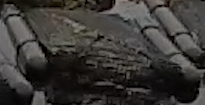bag: (4, 5, 201, 89)
